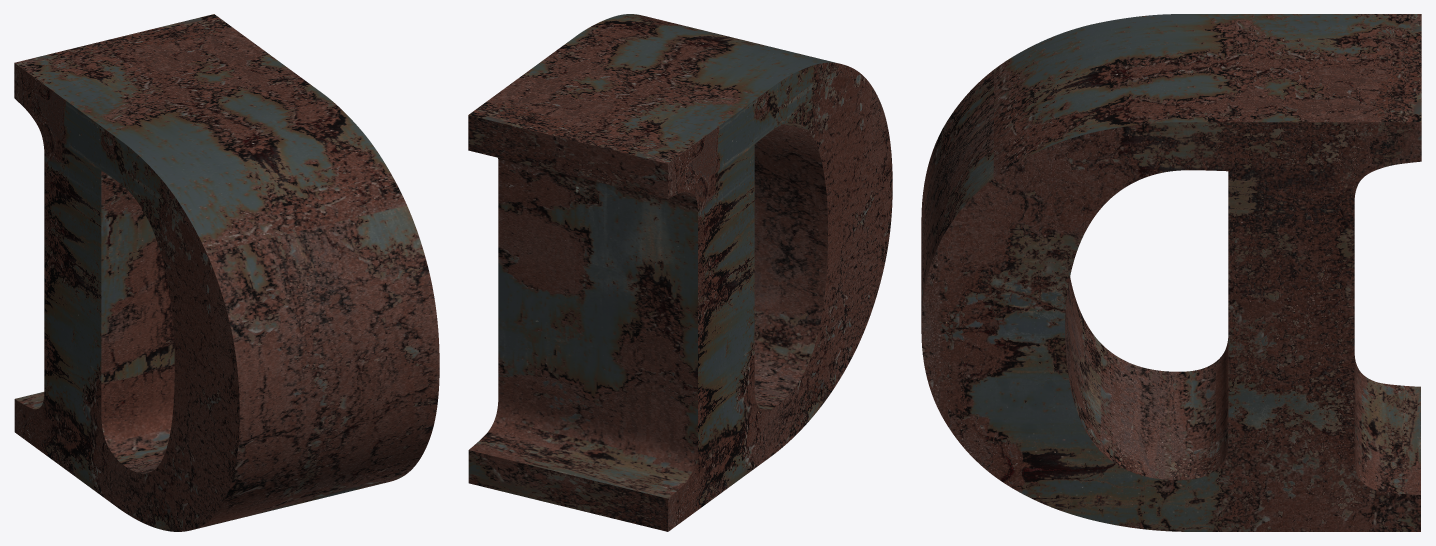
3 views of the same model, side by side, from view 1: azimuth 30°, elevation 25°; view 2: azimuth 150°, elevation 25°; view 3: azimuth 270°, elevation 25° (orthographic). The views are drawn at different scales.
Parts seen in each view (by area): view 1: D; view 2: D; view 3: D.
Part boxes in pixels (<box>): D: <box>14,14,439,531</box>; D: <box>468,14,892,531</box>; D: <box>921,14,1421,531</box>.
Bounding box in the file's own units: 52.84 × 93.21 × 103.
